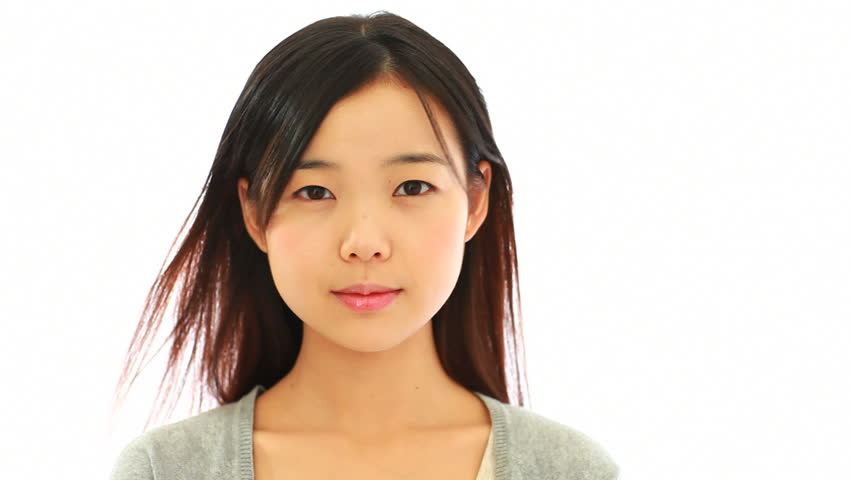bare: (259, 206, 466, 351)
